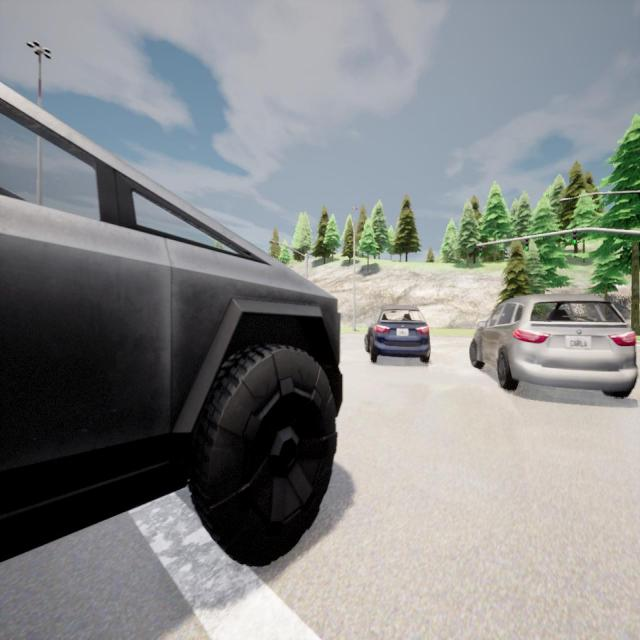Vehicle: (0, 84, 342, 564), (469, 294, 637, 397), (364, 306, 433, 363)
traffic_light: (573, 230, 577, 245), (525, 238, 529, 252), (479, 245, 483, 258)
